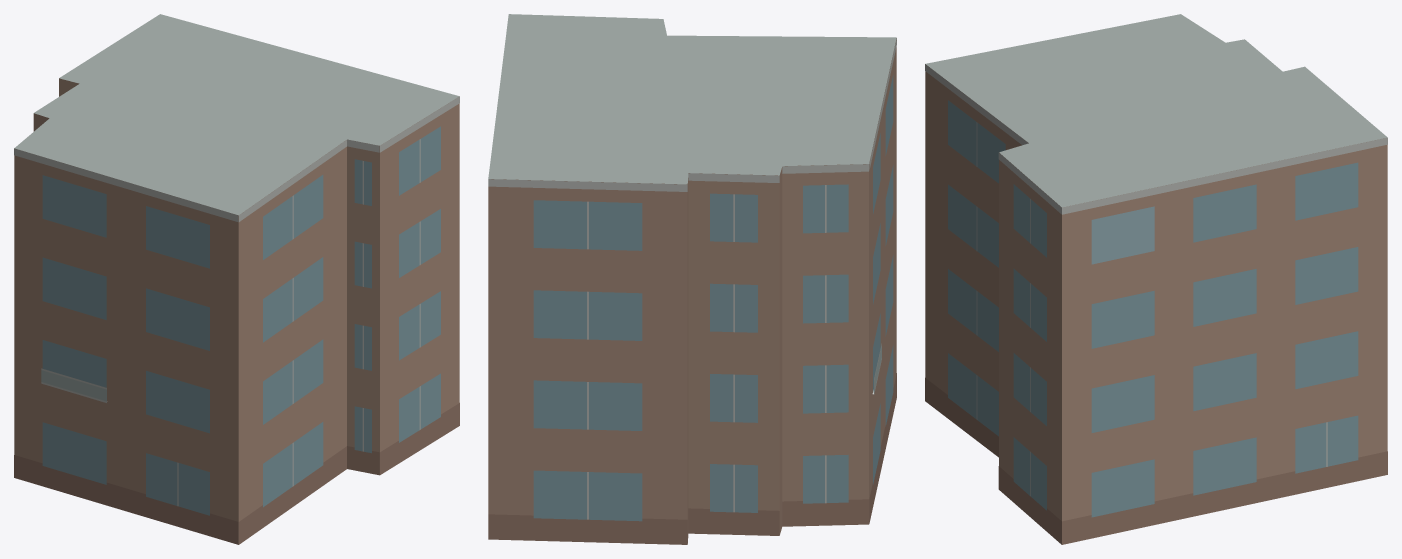
File: survey-upis-32964254.glb
3 renders of one model, left to right at view 1: azimuth 30°, elevation 25°; view 2: azimuth 150°, elevation 25°; view 3: azimuth 270°, elevation 25°, orthographic. The views are drawn at different scales.
Visible parts, largest first — view 1: survey-upis-32964254.tmp; view 2: survey-upis-32964254.tmp; view 3: survey-upis-32964254.tmp.
Part boxes in pixels (x1,y1,x2,y2): survey-upis-32964254.tmp: [14, 14, 459, 544]; survey-upis-32964254.tmp: [488, 14, 896, 544]; survey-upis-32964254.tmp: [925, 14, 1387, 544].
Bounding box in the file's own units: 14.17 × 11.5 × 14.31.
